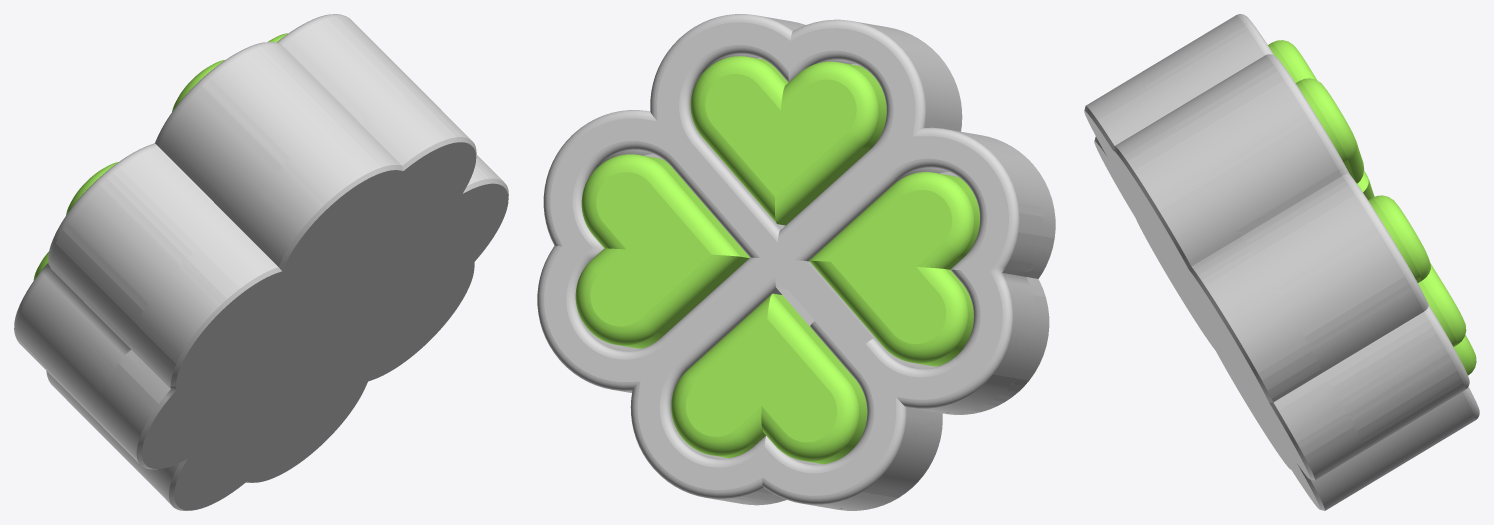
File: clover_obj_export2.glb
The picture shows the model from 3 angles, left to right: view 1: azimuth 30°, elevation 25°; view 2: azimuth 150°, elevation 25°; view 3: azimuth 270°, elevation 25°; orthographic projection. The views are drawn at different scales.
Parts seen in each view (by area): view 1: Object_3, Object_2, Object_4; view 2: Object_3, Object_4, Object_2; view 3: Object_3, Object_2, Object_4.
Boxes of the visible parts, x1,y1,x2,y2 form: Object_3: (14, 14, 508, 510); Object_2: (17, 18, 475, 463); Object_4: (33, 33, 287, 280); Object_3: (537, 14, 1055, 510); Object_4: (575, 56, 979, 464); Object_2: (582, 25, 1043, 510); Object_3: (1084, 14, 1479, 510); Object_2: (1124, 26, 1475, 509); Object_4: (1268, 40, 1476, 375).
Size of the model in its own units: 535 by 526 by 418.
